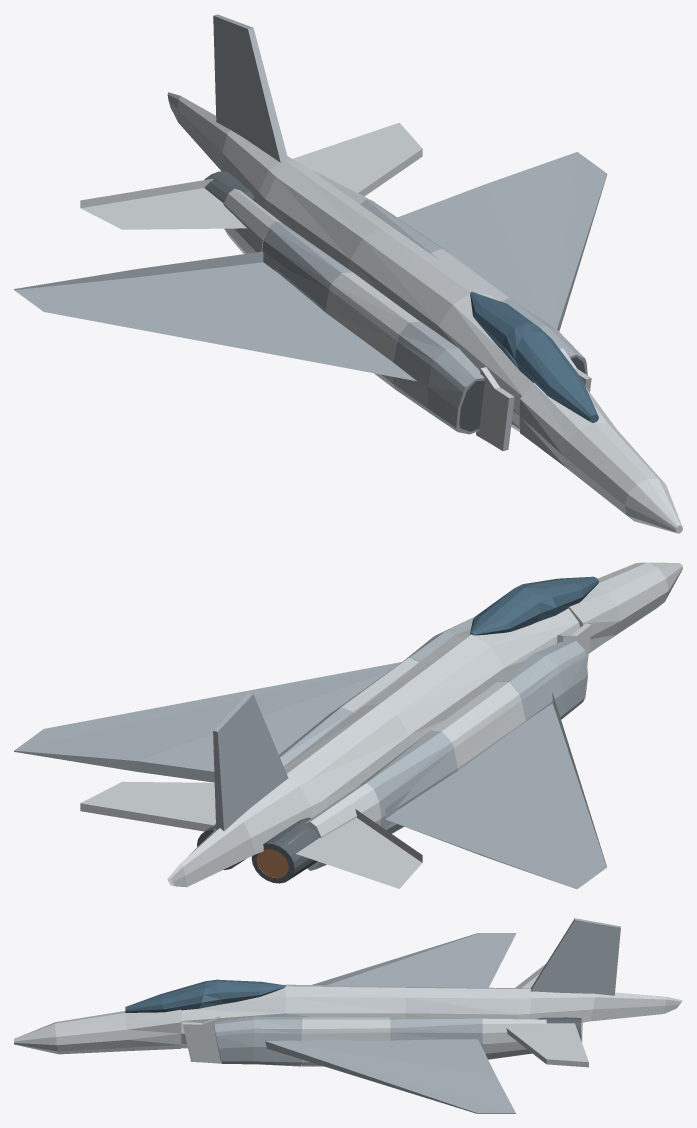
3 views of the same model, one above another, from view 1: azimuth 30°, elevation 25°; view 2: azimuth 150°, elevation 25°; view 3: azimuth 270°, elevation 25° (orthographic). The views are drawn at different scales.
Parts seen in each view (by area): view 1: RightWingSurface19, FuselageSurface1, LeftWingSurface6, NoseSurface2, VerticalTailSurface32, CockpitSurface3, RightIntakeSurface21, RightTailSurface20, LeftTailSurface7, RightUpperLegSurface11.001, RightLowerLegSurface12.001, RightIntakeSurface23 (+6 smaller); view 2: FuselageSurface1, RightWingSurface19, LeftWingSurface6, VerticalTailSurface32, NoseSurface2, LeftTailSurface7, RightTailSurface20, RightIntakeSurface21, RightLowerLegSurface12.001, RightUpperLegSurface11.001, CockpitSurface3, RightFootSurface13.001 (+6 smaller); view 3: FuselageSurface1, LeftWingSurface6, RightWingSurface19, NoseSurface2, VerticalTailSurface32, LeftIntakeSurface8, CockpitSurface3, LeftTailSurface7, LeftUpperLegSurface11, LeftLowerLegSurface12, LeftFootSurface13, LeftIntakeSurface10 (+1 smaller).
Part boxes in pixels (x1=…): RightWingSurface19: x1=14, y1=251, x2=416, y2=381; FuselageSurface1: x1=167, y1=92, x2=532, y2=431; LeftWingSurface6: x1=397, y1=152, x2=607, y2=331; NoseSurface2: x1=519, y1=382, x2=682, y2=533; VerticalTailSurface32: x1=213, y1=14, x2=288, y2=162; CockpitSurface3: x1=470, y1=291, x2=598, y2=422; RightIntakeSurface21: x1=393, y1=321, x2=484, y2=434; RightTailSurface20: x1=80, y1=178, x2=246, y2=229; LeftTailSurface7: x1=293, y1=122, x2=422, y2=196; RightUpperLegSurface11.001: x1=325, y1=272, x2=419, y2=389; RightLowerLegSurface12.001: x1=262, y1=221, x2=352, y2=312; RightIntakeSurface23: x1=476, y1=367, x2=514, y2=450; FuselageSurface1: x1=167, y1=608, x2=580, y2=887; RightWingSurface19: x1=385, y1=692, x2=606, y2=889; LeftWingSurface6: x1=14, y1=662, x2=401, y2=782; VerticalTailSurface32: x1=213, y1=692, x2=288, y2=831; NoseSurface2: x1=568, y1=562, x2=682, y2=653; LeftTailSurface7: x1=80, y1=781, x2=215, y2=831; RightTailSurface20: x1=288, y1=809, x2=422, y2=888; RightIntakeSurface21: x1=498, y1=640, x2=587, y2=721; RightLowerLegSurface12.001: x1=359, y1=730, x2=457, y2=833; RightUpperLegSurface11.001: x1=431, y1=681, x2=525, y2=770; CockpitSurface3: x1=470, y1=576, x2=598, y2=635; RightFootSurface13.001: x1=304, y1=783, x2=381, y2=870; FuselageSurface1: x1=181, y1=984, x2=682, y2=1048; LeftWingSurface6: x1=265, y1=1039, x2=515, y2=1113; RightWingSurface19: x1=312, y1=933, x2=516, y2=987; NoseSurface2: x1=14, y1=1009, x2=181, y2=1054; VerticalTailSurface32: x1=530, y1=918, x2=620, y2=995; LeftIntakeSurface8: x1=214, y1=1016, x2=301, y2=1066; CockpitSurface3: x1=125, y1=979, x2=285, y2=1012; LeftTailSurface7: x1=506, y1=1023, x2=588, y2=1067; LeftUpperLegSurface11: x1=302, y1=1017, x2=390, y2=1066; LeftLowerLegSurface12: x1=390, y1=1017, x2=482, y2=1047; LeftFootSurface13: x1=482, y1=1018, x2=546, y2=1059; LeftIntakeSurface10: x1=182, y1=1016, x2=221, y2=1063.
Bounding box in the file's own units: 12 × 4.22 × 18.86.
